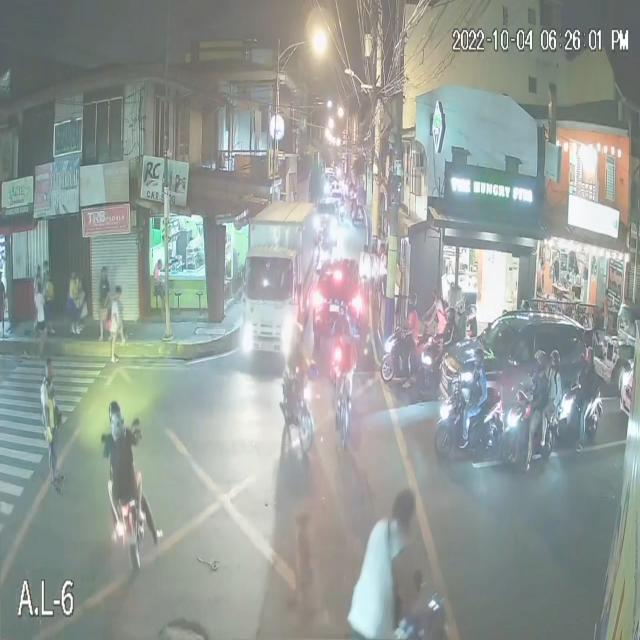Full-Faced: (106, 410, 124, 446), (102, 395, 120, 424), (469, 347, 486, 376), (584, 345, 598, 369), (337, 301, 352, 321), (288, 322, 302, 341), (407, 292, 418, 313)
Half-Faced: (442, 306, 457, 334), (545, 344, 560, 372), (533, 351, 547, 374)
Not-Wearing-Helmet: (387, 483, 415, 530)
